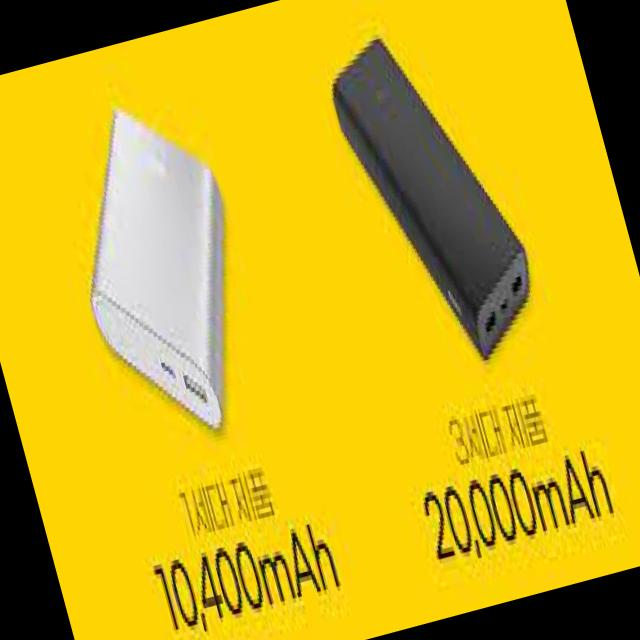portable-charger: (36, 72, 290, 460), (314, 9, 552, 386)
